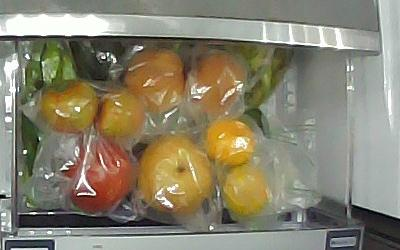peach_vinyl: (188, 53, 246, 122), (122, 48, 185, 111)
pear_vinyl: (138, 133, 215, 217)
tangerine_vinyl: (203, 121, 255, 167), (223, 166, 269, 218)
tomato_vinyl: (60, 134, 133, 213), (41, 79, 99, 134), (95, 89, 145, 144)
